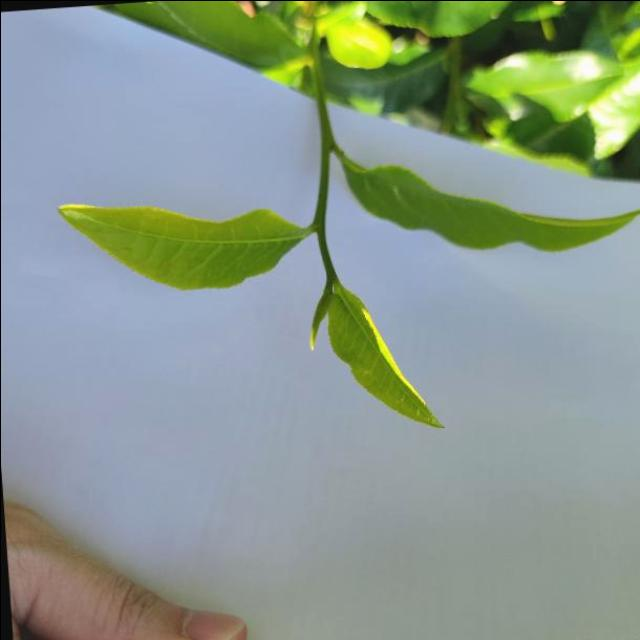Stem: (313, 213, 324, 227)
